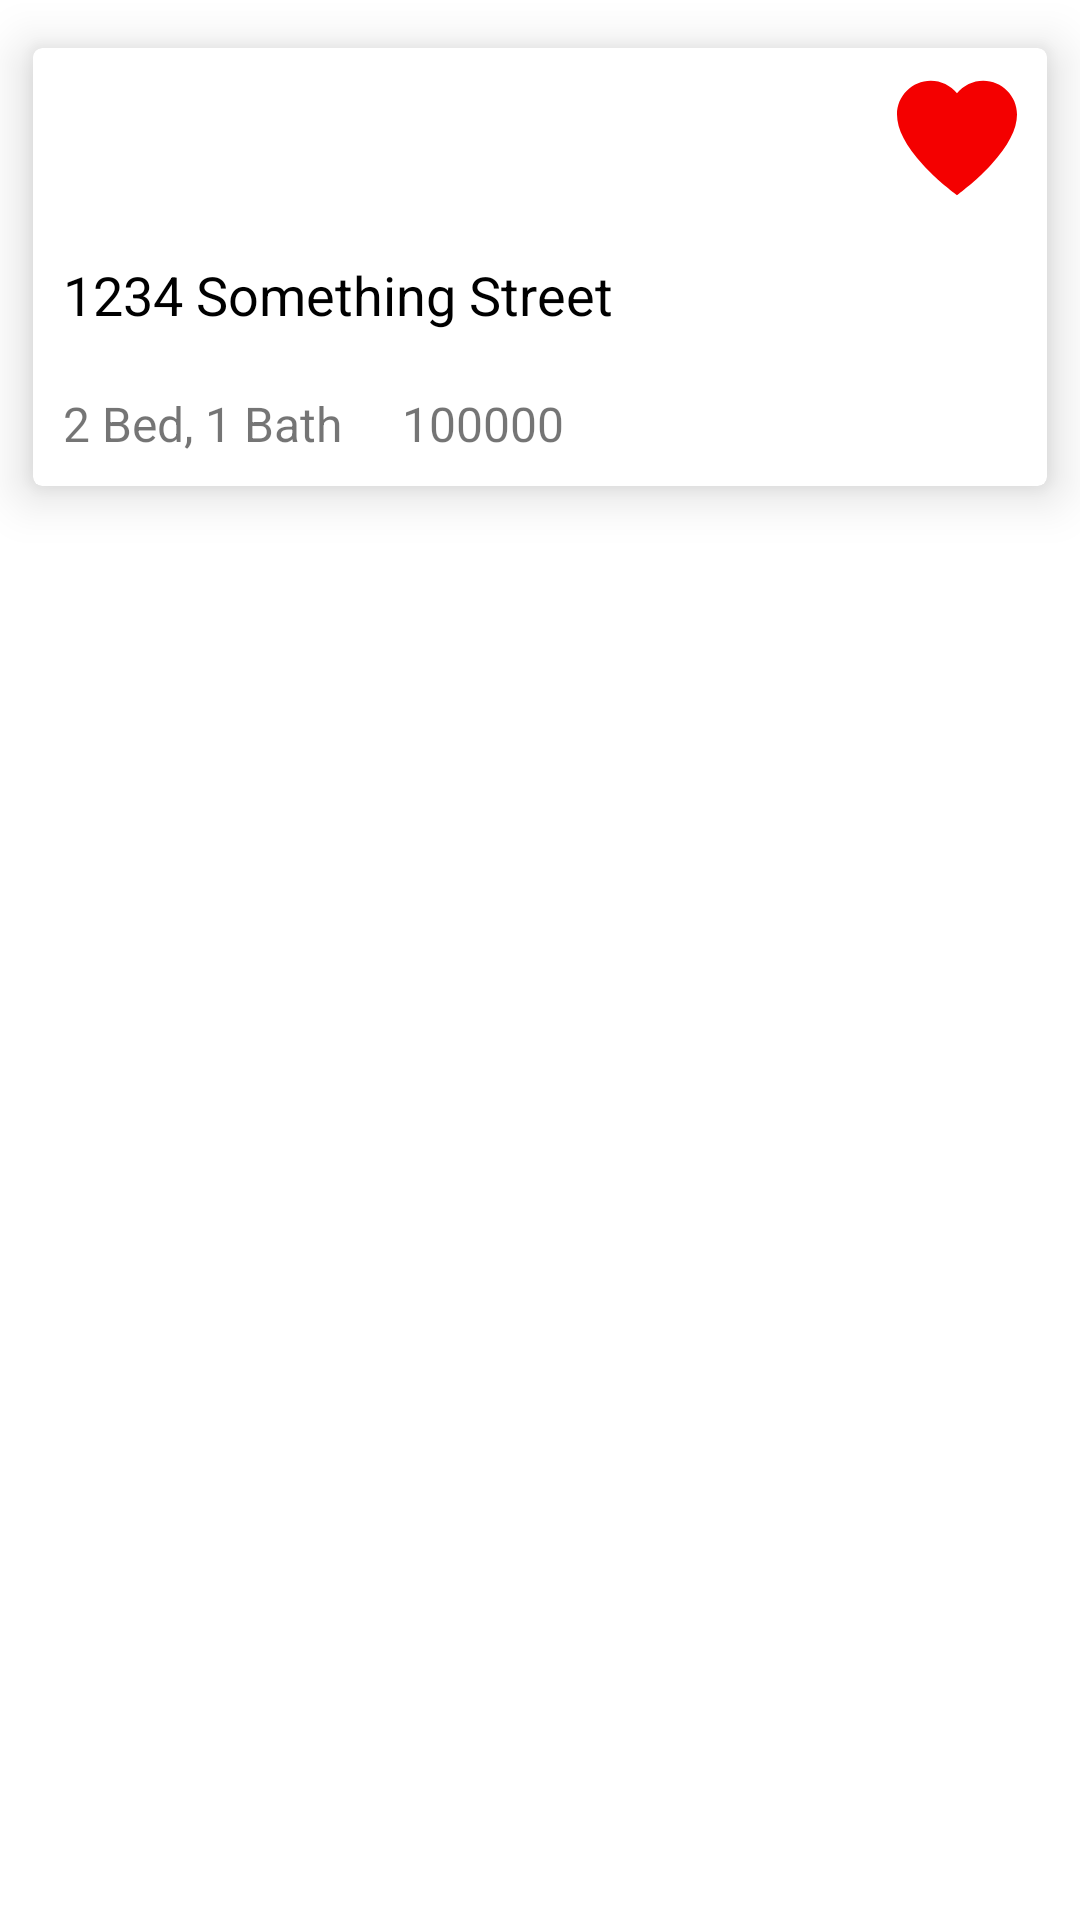

Point at icon controls on the screen. Image size 1080 × 1920, points as (x=x, y=y).
favorite: (x=957, y=137)
